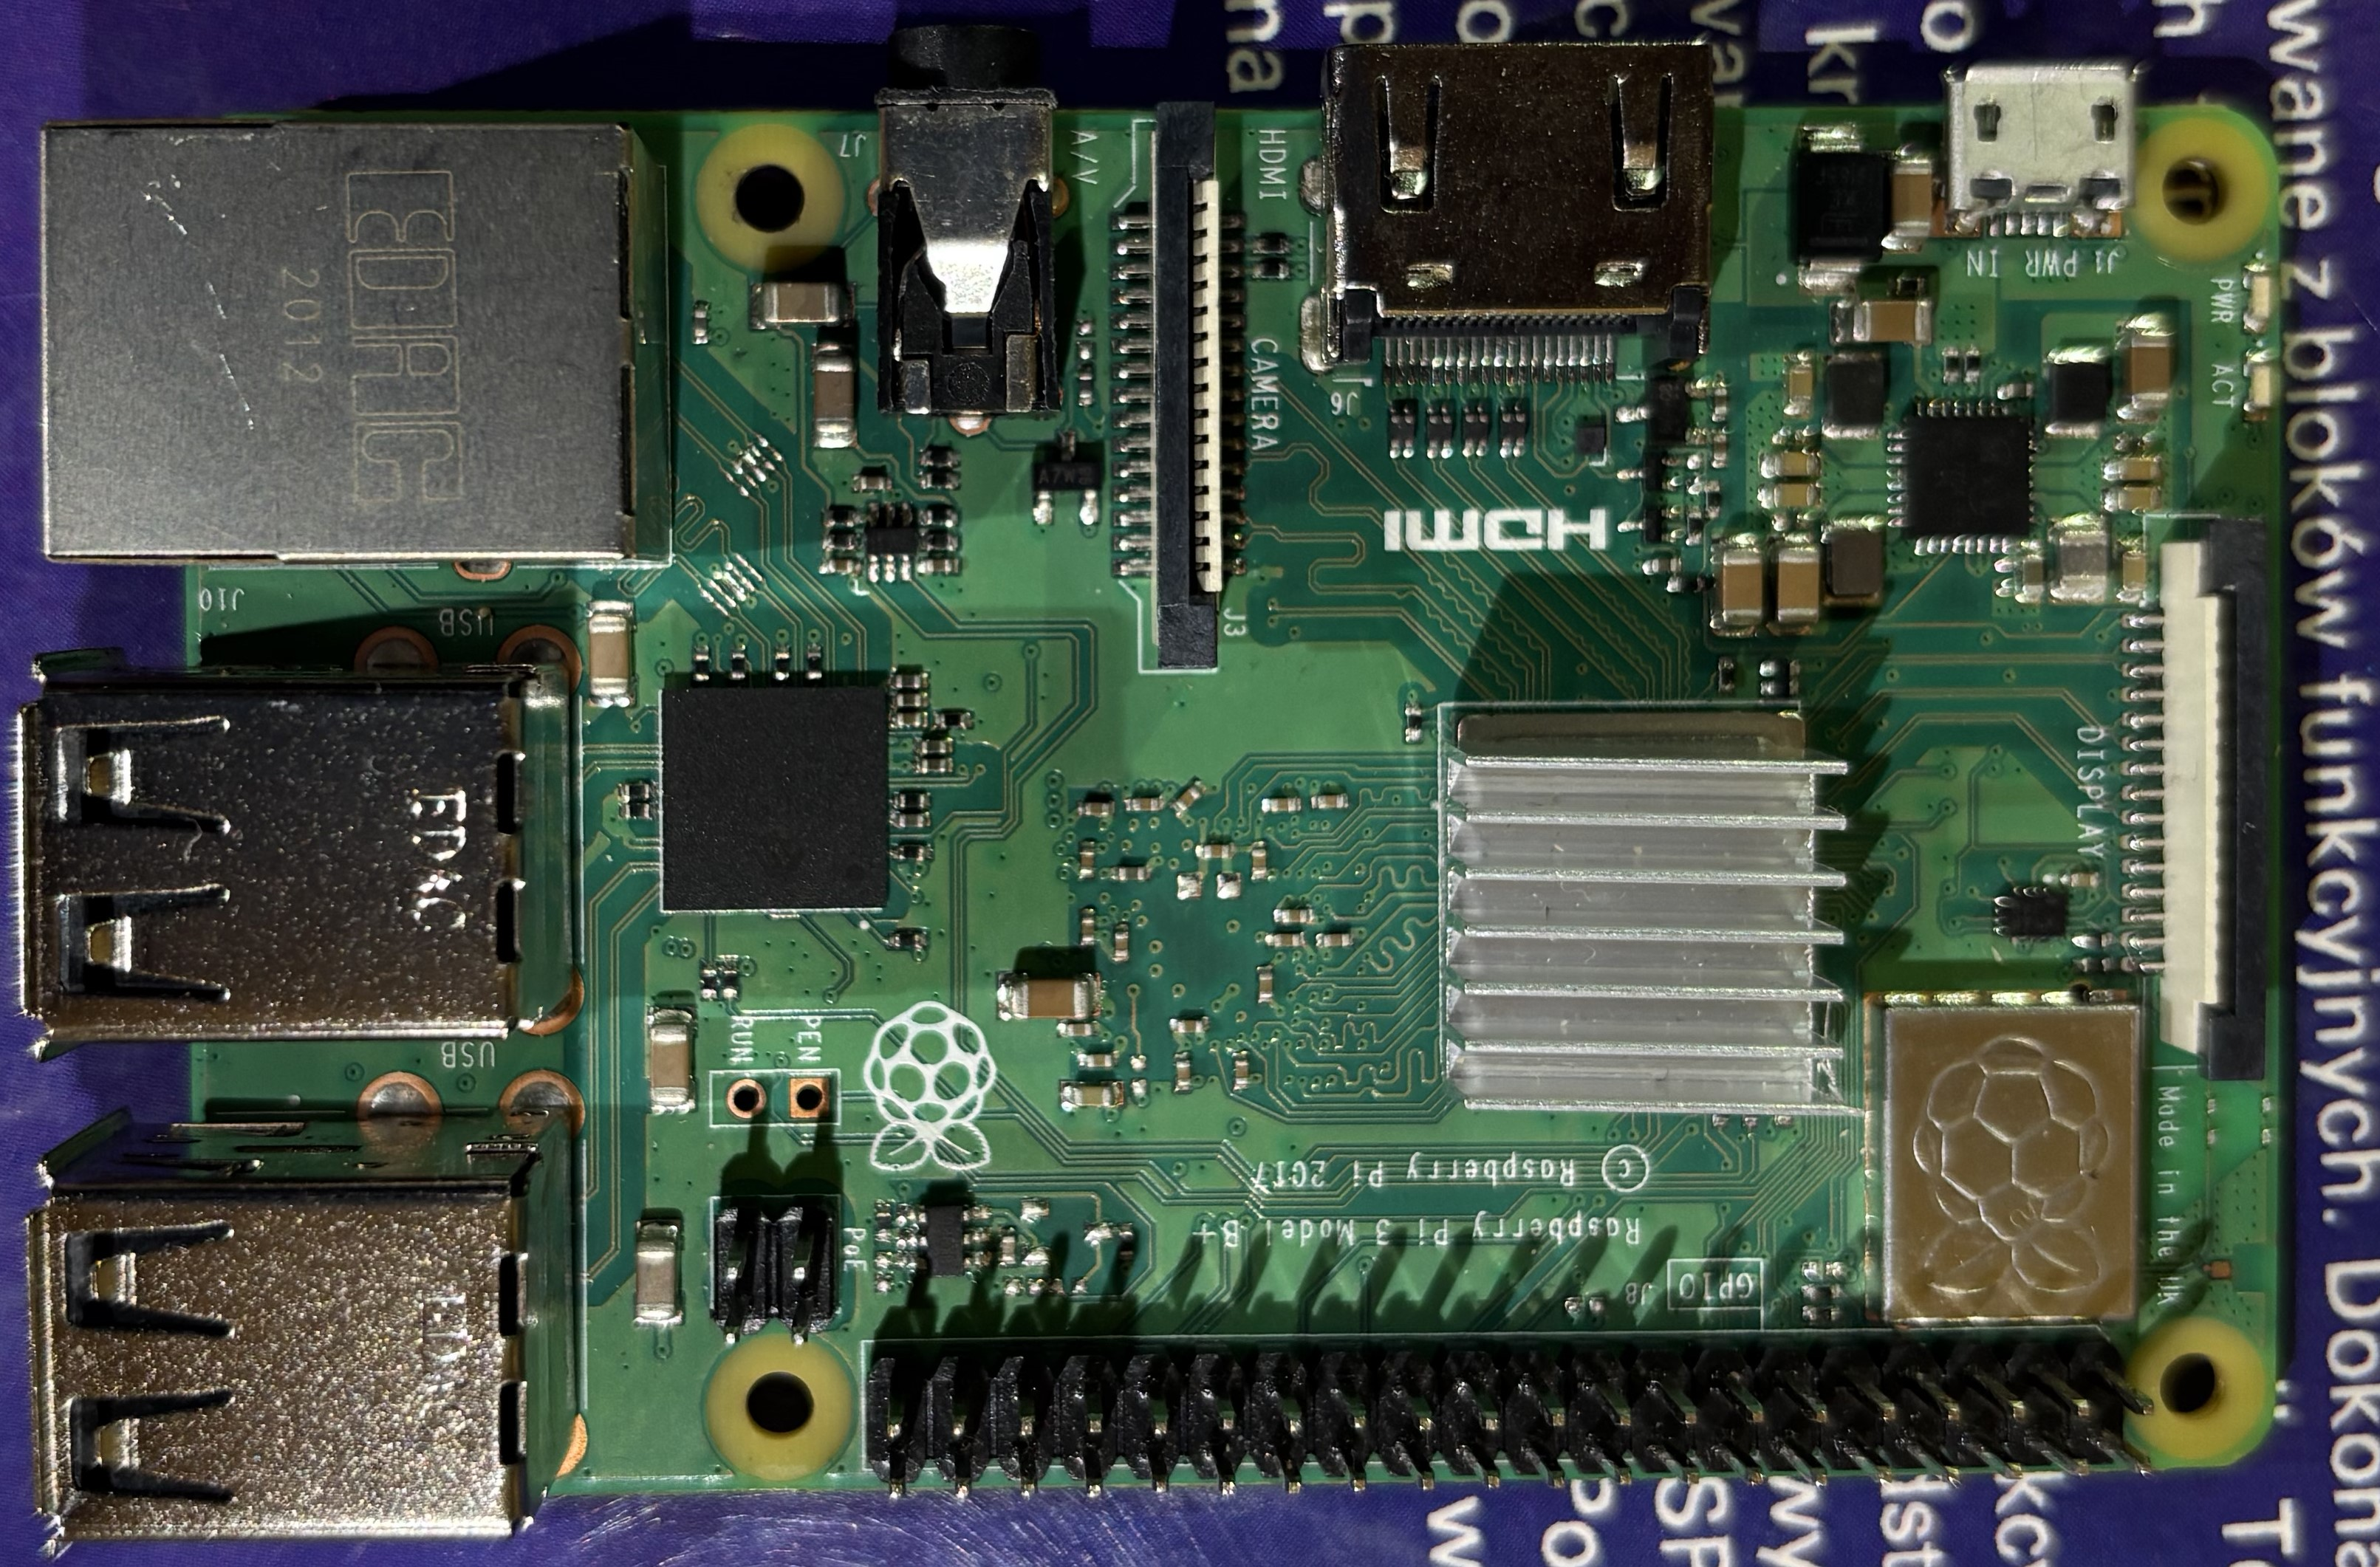Induktor: (1822, 359, 1882, 432), (2046, 355, 2105, 425), (1824, 528, 1880, 595)
